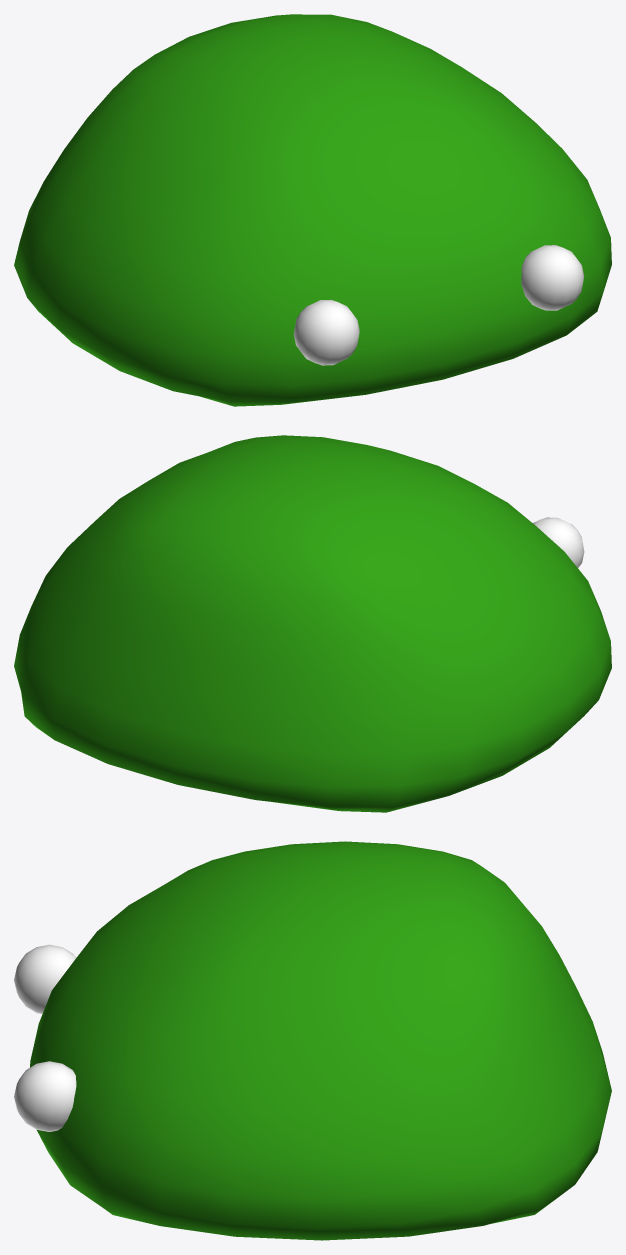
The model's file is Slime_04.fbx.
3 renders of one model, top to bottom at view 1: azimuth 30°, elevation 25°; view 2: azimuth 150°, elevation 25°; view 3: azimuth 270°, elevation 25°, orthographic. The views are drawn at different scales.
Visible parts, largest first — view 1: Slime_04; view 2: Slime_04; view 3: Slime_04.
Boxes of the visible parts, x1,y1,x2,y2 form: Slime_04: (14, 14, 611, 406); Slime_04: (14, 435, 611, 812); Slime_04: (14, 841, 611, 1240).
Size of the model in its own units: 0.4809 by 0.2225 by 0.46.
